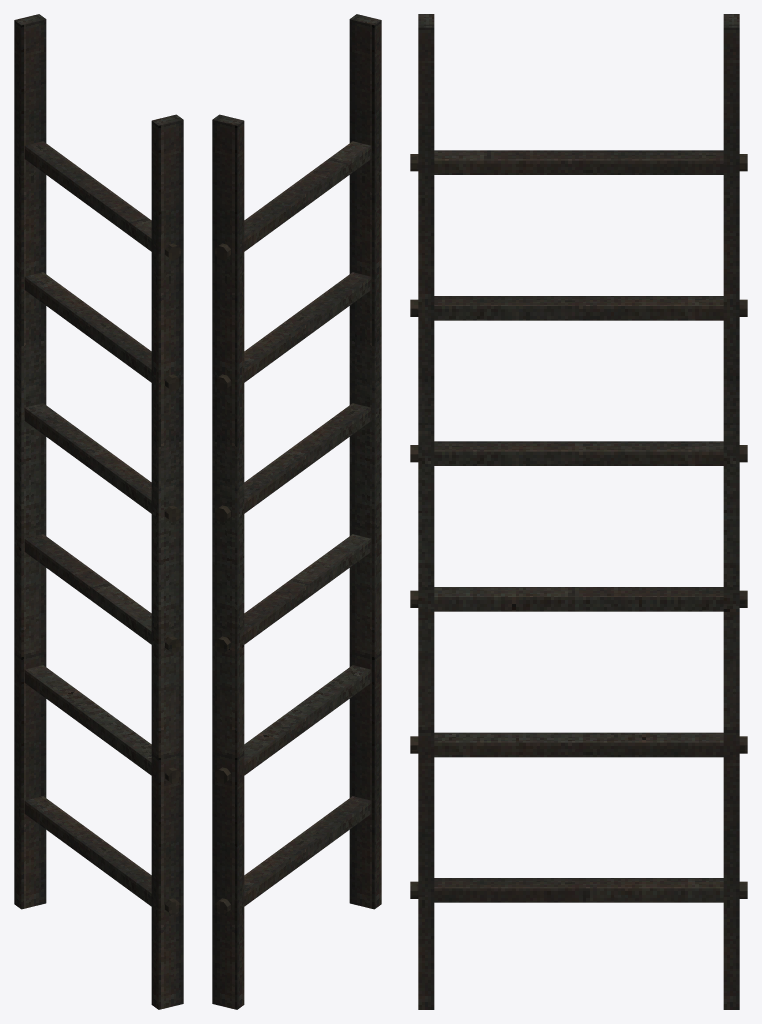
File: ladder_hr_1_short.glb
3 views of the same model, side by side, from view 1: azimuth 30°, elevation 25°; view 2: azimuth 150°, elevation 25°; view 3: azimuth 270°, elevation 25° (orthographic). The views are drawn at different scales.
Parts seen in each view (by area): view 1: ladder_hr_1_short; view 2: ladder_hr_1_short; view 3: ladder_hr_1_short.
Boxes of the visible parts, x1,y1,x2,y2 form: ladder_hr_1_short: [14, 14, 183, 1009]; ladder_hr_1_short: [212, 14, 381, 1009]; ladder_hr_1_short: [410, 14, 747, 1009].
Size of the model in its own units: 0.08 by 2.7 by 0.84.
1 material, 1 textured.
